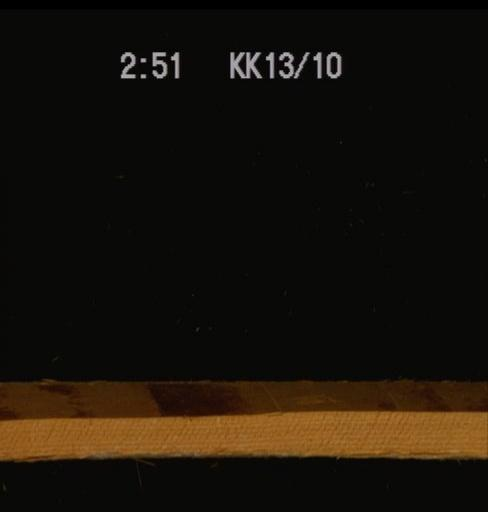wave: (0, 380, 486, 418)
